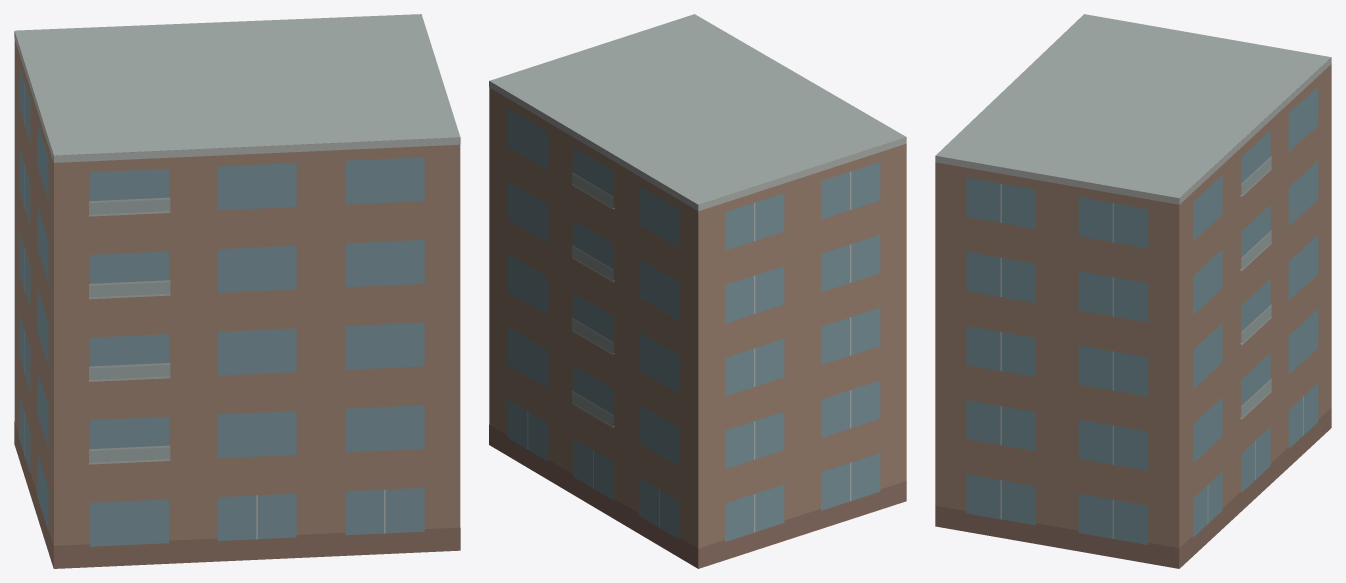
The model's file is survey-upis-32888612.glb.
3 views of the same model, side by side, from view 1: azimuth 30°, elevation 25°; view 2: azimuth 150°, elevation 25°; view 3: azimuth 270°, elevation 25° (orthographic). The views are drawn at different scales.
Parts seen in each view (by area): view 1: survey-upis-32888612.tmp; view 2: survey-upis-32888612.tmp; view 3: survey-upis-32888612.tmp.
Boxes of the visible parts, bbox=[...] form: survey-upis-32888612.tmp: bbox=[14, 14, 460, 568]; survey-upis-32888612.tmp: bbox=[489, 14, 906, 568]; survey-upis-32888612.tmp: bbox=[935, 14, 1331, 568].
Size of the model in its own units: 14.5 by 13.6 by 13.18.
